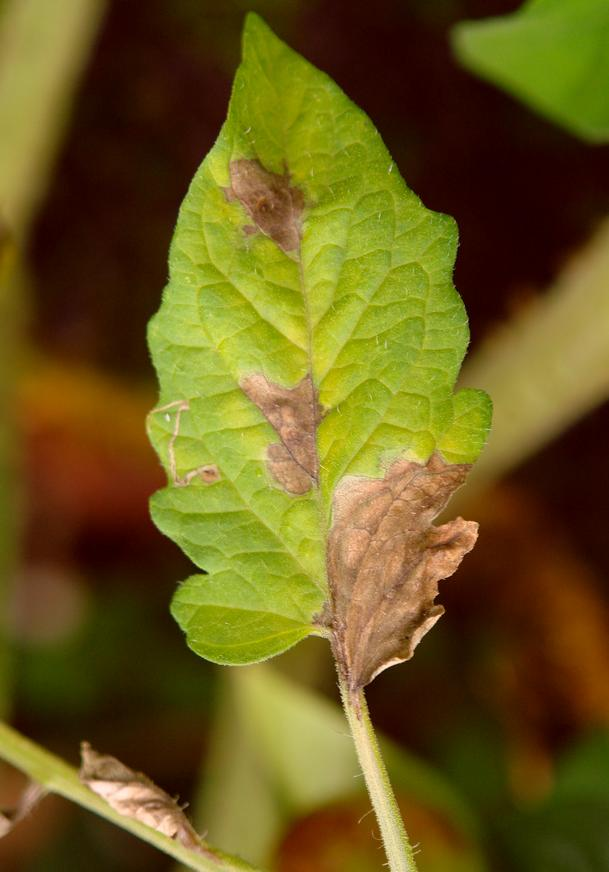Tomato leaf late blight: (133, 0, 501, 690)
